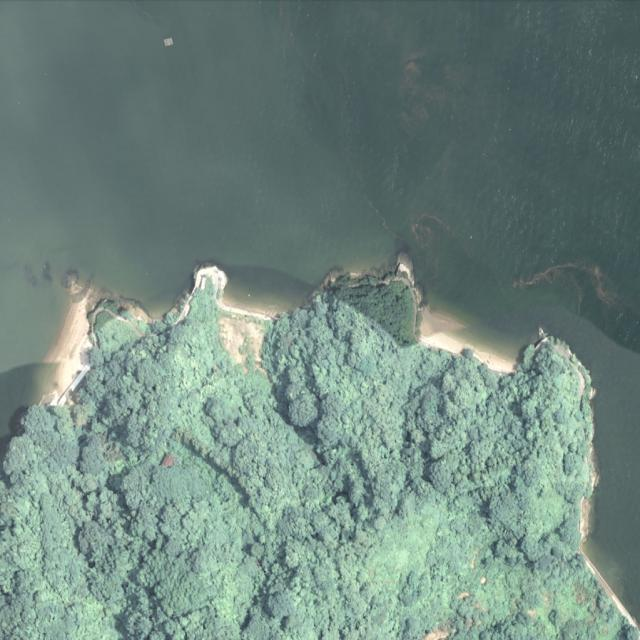landslide: (218, 315, 267, 376)
